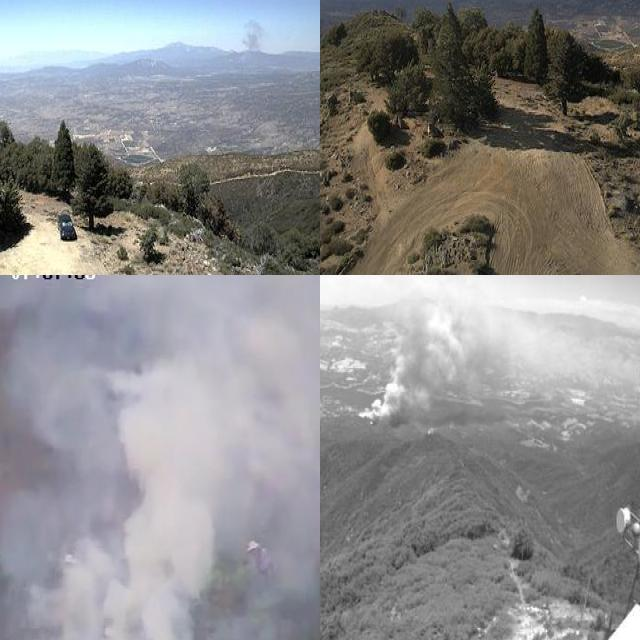smoke: (0, 275, 320, 640), (355, 275, 562, 422), (237, 12, 265, 54)
